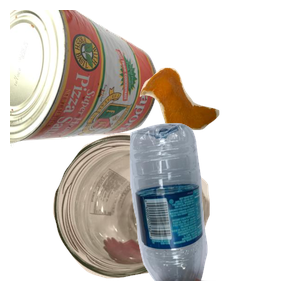glass: (50, 131, 252, 300)
metal: (10, 10, 159, 152)
plastic: (127, 120, 300, 300)
trash: (137, 65, 300, 188)
